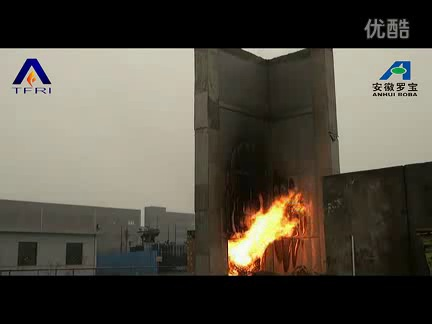fire: (224, 187, 312, 277)
